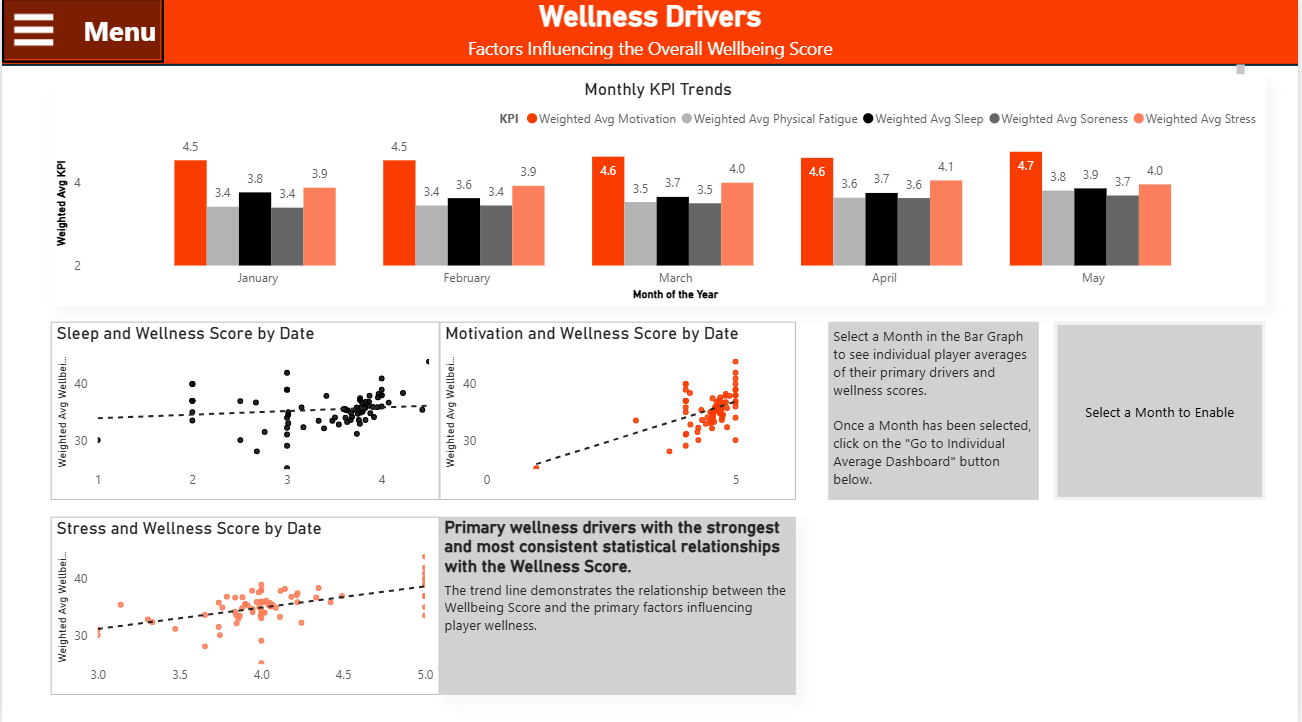

The page's visual inventory and layout, read from the dashboard file:
{"tool":"powerbi","page":{"name":"Wellness Drivers","canvas":[1280,720],"ordinal":1},"visuals":[{"type":"clusteredColumnChart","title":"Monthly KPI Trends","fields":{"Category":["MonthSortTable.Month"],"Y":["_Measures.Weighted Avg Motivation","_Measures.Weighted Avg Physical Fatigue","_Measures.Weighted Avg Sleep","_Measures.Weighted Avg Soreness","_Measures.Weighted Avg Stress"]},"box":[48,80,1200,224],"z":0},{"type":"textbox","title":"Wellness Drivers","box":[48,0,1184,80],"z":2000},{"type":"scatterChart","title":"Sleep and Wellness Score by Date","fields":{"Category":["Wellness Data 2025.Date"],"X":["_Measures.Weighted Avg Sleep"],"Y":["_Measures.Weighted Avg Wellbeing"]},"box":[48,320,384,176],"z":4000},{"type":"scatterChart","title":" Motivation and Wellness Score by Date","fields":{"Category":["Wellness Data 2025.Date"],"X":["_Measures.Weighted Avg Motivation"],"Y":["_Measures.Weighted Avg Wellbeing"]},"box":[432,320,352,176],"z":6000},{"type":"scatterChart","title":"Stress and Wellness Score by Date","fields":{"Category":["Wellness Data 2025.Date"],"X":["_Measures.Weighted Avg Stress"],"Y":["_Measures.Weighted Avg Wellbeing"]},"box":[48,512,384,176],"z":7000},{"type":"textbox","title":"Primary wellness drivers with the strongest and most consistent statistical relationships with the Wellness Score.","box":[432,512,352,176],"z":8000},{"type":"actionButton","box":[1040,320,208,176],"z":9000},{"type":"textbox","box":[816,320,208,176],"z":10000},{"type":"actionButton","box":[0,0,160,64],"z":11000}]}

Visuals, with their boxes in screenshot pixels (x1, y1, x2, y2), scaled from the page's 1280x720 canvas onto the 1302x722 screenshot:
"Monthly KPI Trends" clusteredColumnChart: [x1=49, y1=80, x2=1269, y2=305]
"Wellness Drivers" textbox: [x1=49, y1=0, x2=1253, y2=80]
"Sleep and Wellness Score by Date" scatterChart: [x1=49, y1=321, x2=439, y2=497]
" Motivation and Wellness Score by Date" scatterChart: [x1=439, y1=321, x2=797, y2=497]
"Stress and Wellness Score by Date" scatterChart: [x1=49, y1=513, x2=439, y2=690]
"Primary wellness drivers with the strongest and most consistent statistical relationships with the Wellness Score." textbox: [x1=439, y1=513, x2=797, y2=690]
actionButton: [x1=1058, y1=321, x2=1269, y2=497]
textbox: [x1=830, y1=321, x2=1042, y2=497]
actionButton: [x1=0, y1=0, x2=163, y2=64]
